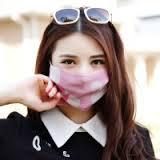OK: (50, 44, 113, 109)
